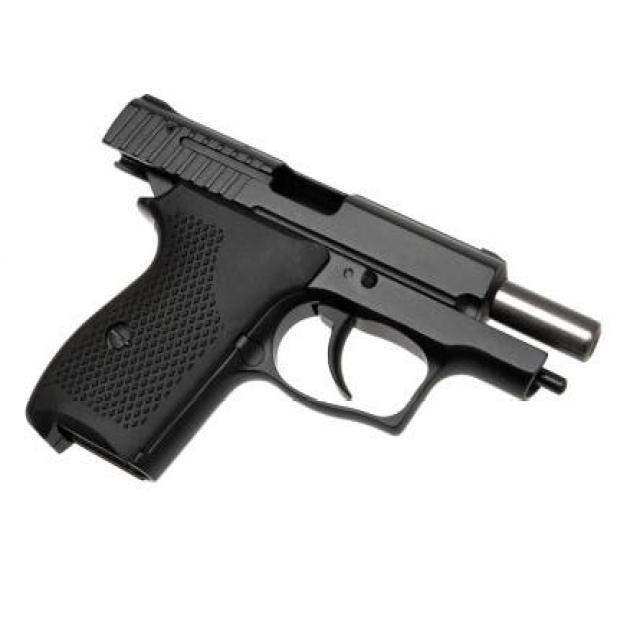pistol: (19, 89, 604, 483)
